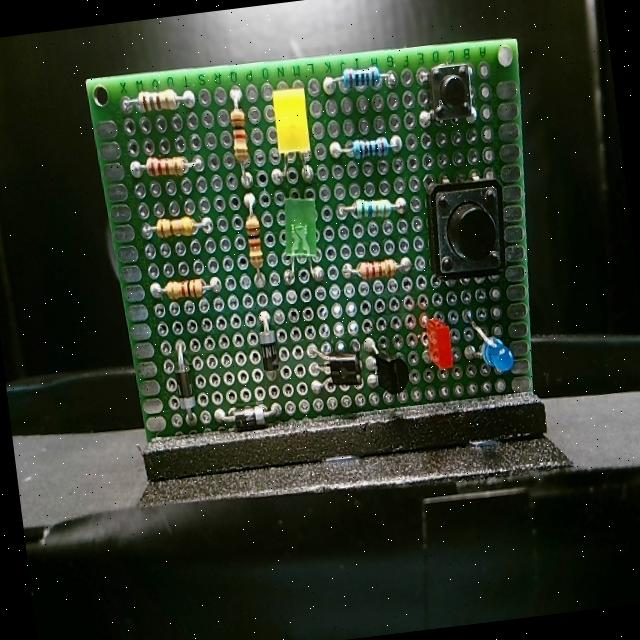diode: (169, 358, 199, 412), (256, 324, 285, 379), (229, 402, 269, 428)
led: (269, 81, 315, 161), (278, 192, 323, 260), (474, 320, 517, 381), (421, 312, 457, 376)
resistor: (141, 147, 192, 180), (128, 84, 184, 114), (226, 101, 251, 168), (242, 212, 269, 274), (332, 63, 385, 92), (346, 192, 394, 224), (152, 212, 201, 242), (349, 252, 398, 282), (346, 134, 394, 164), (162, 277, 206, 304)
switch: (419, 175, 510, 283), (422, 61, 476, 124)
transistor: (368, 342, 408, 398), (322, 346, 363, 390)
